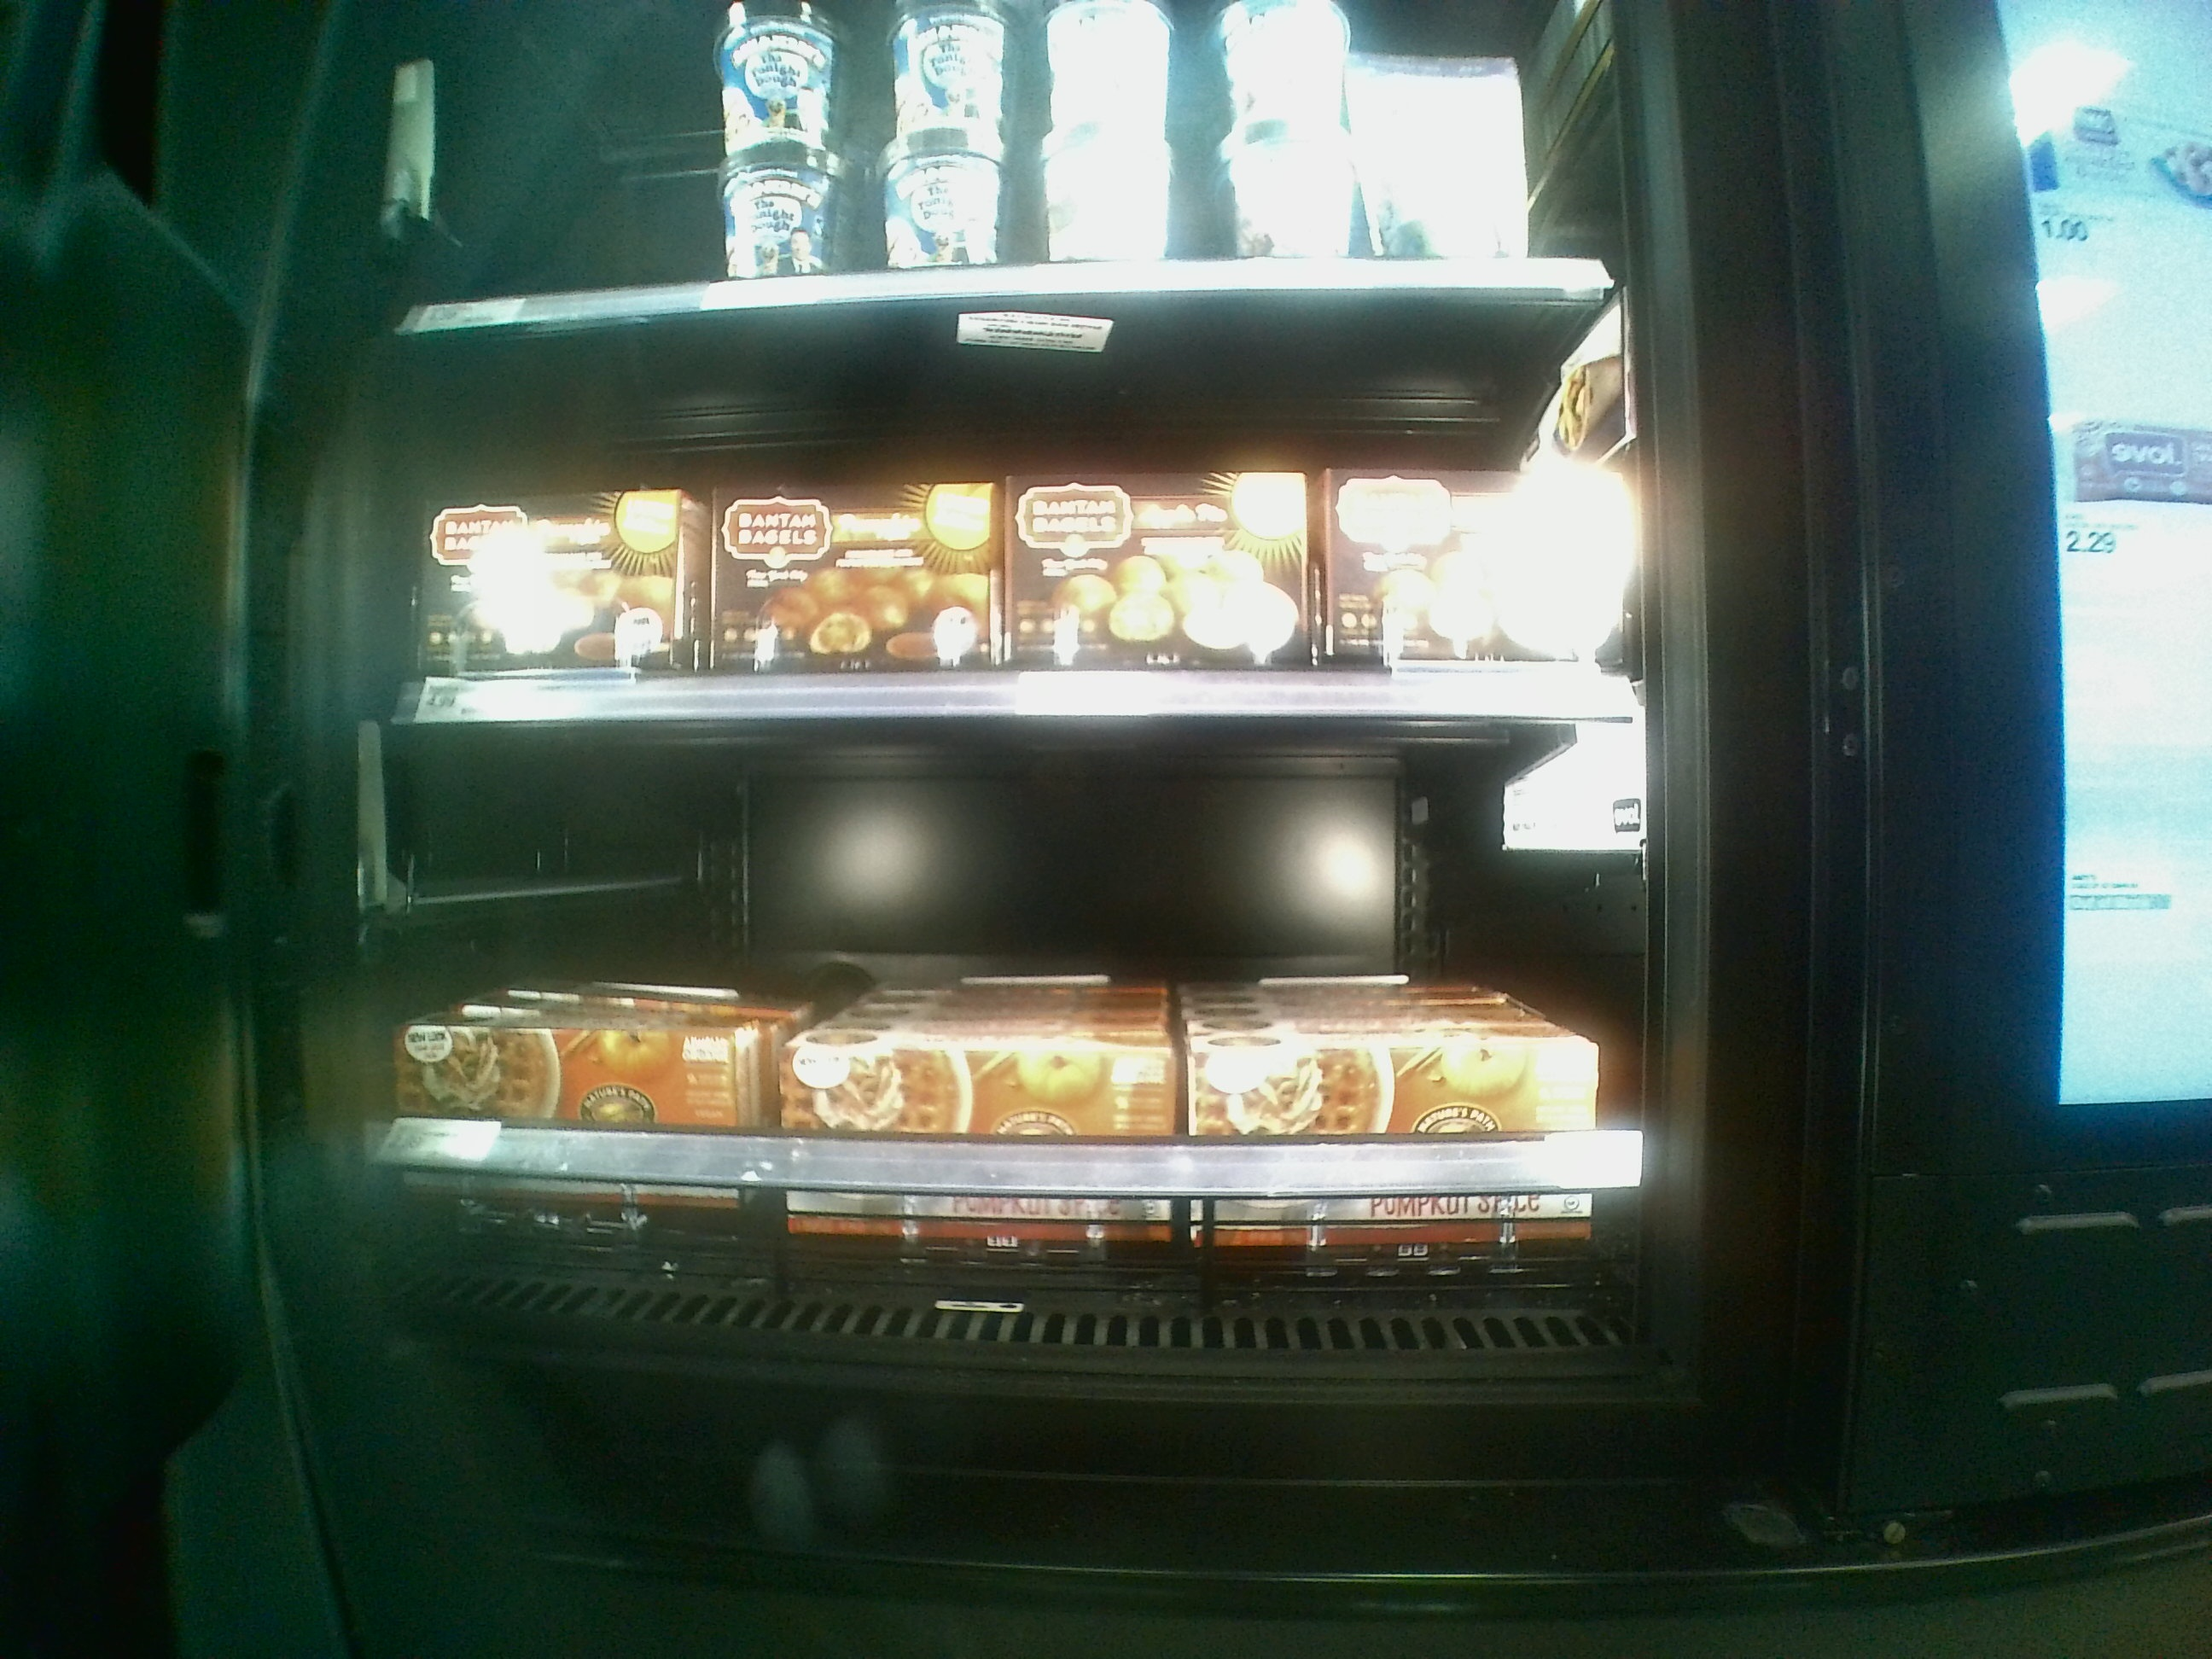shelf: (380, 713, 1662, 1384), (394, 331, 1644, 727)
